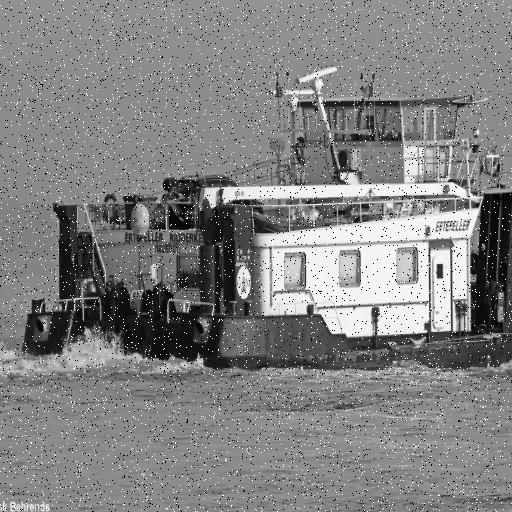tugboat: (14, 63, 512, 382)
